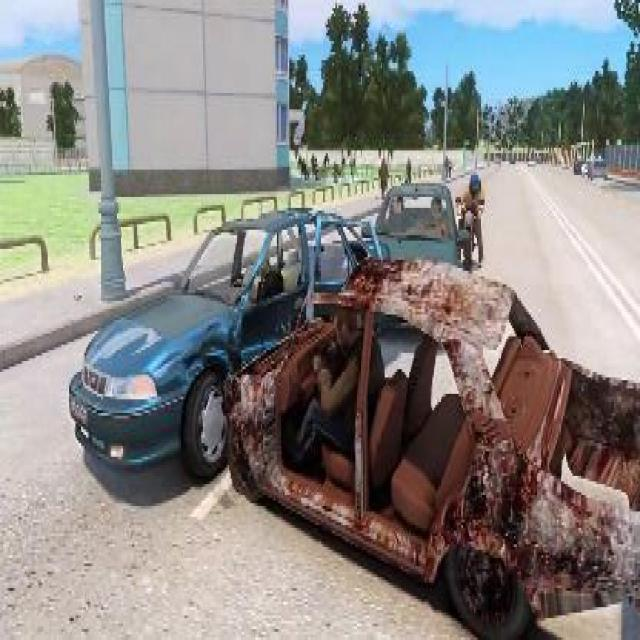accident: (66, 200, 640, 637)
